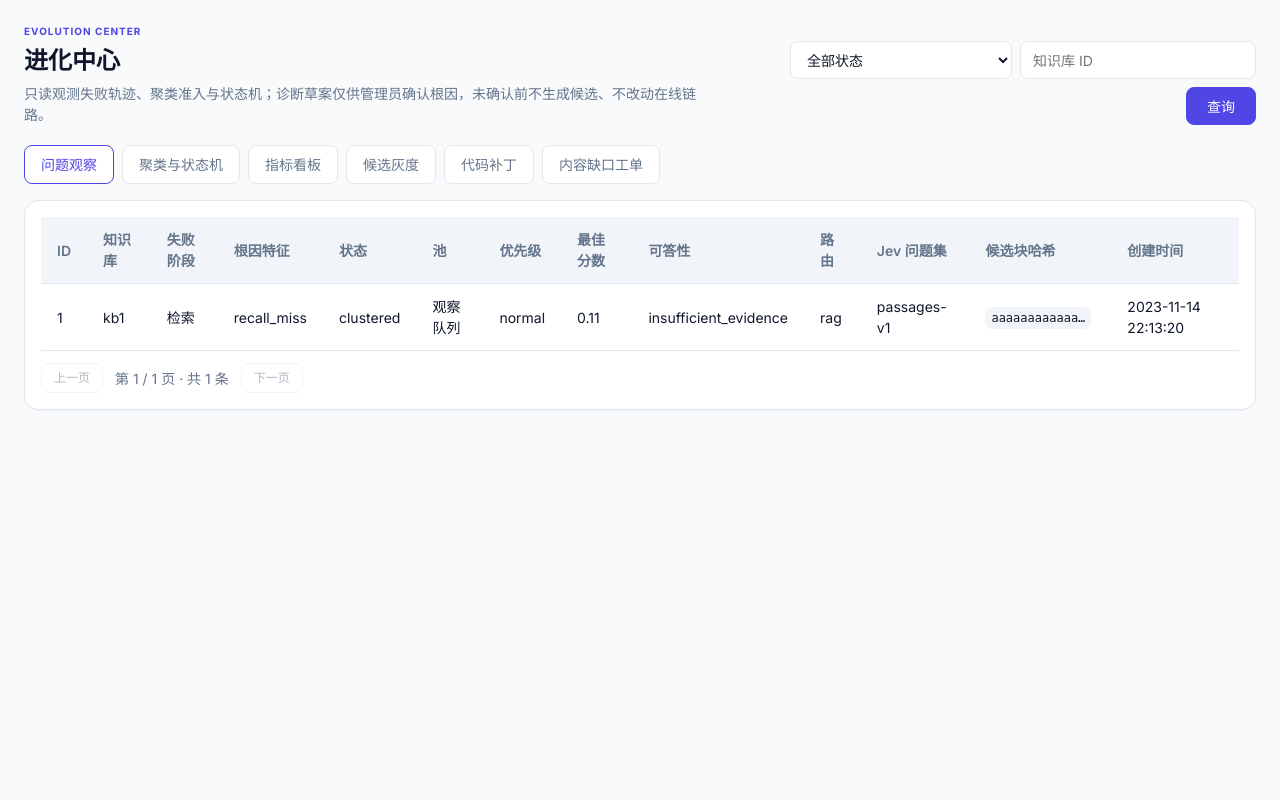
Test: EvolutionCenterView member-draft review › labels the three decisions for the administrator
This screenshot has width=1280, height=800.
Step 1. Click the button with test id "tab-clusters" → (181, 164), box [122,145,240,184]
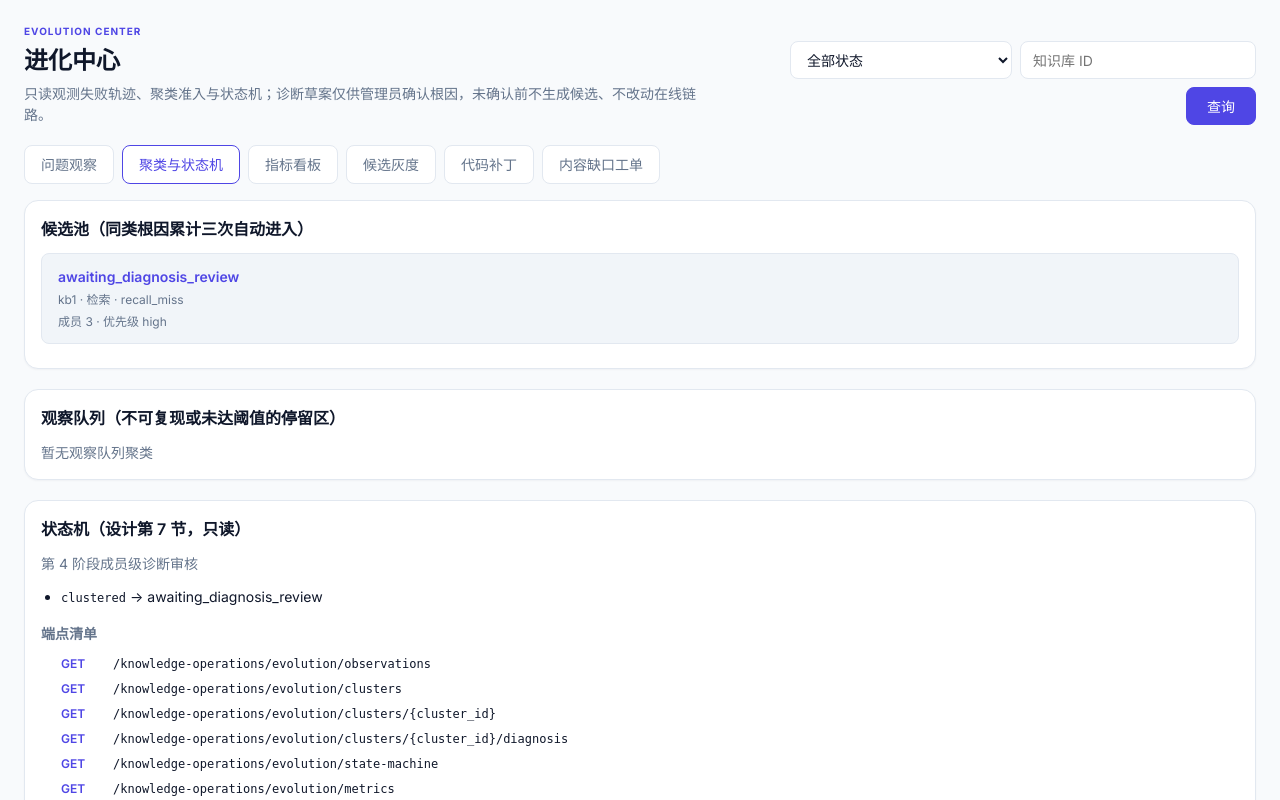
Step 2. Click the button with test id "cluster-card" → (149, 276), box [41,253,1239,344]
(page scrolled)
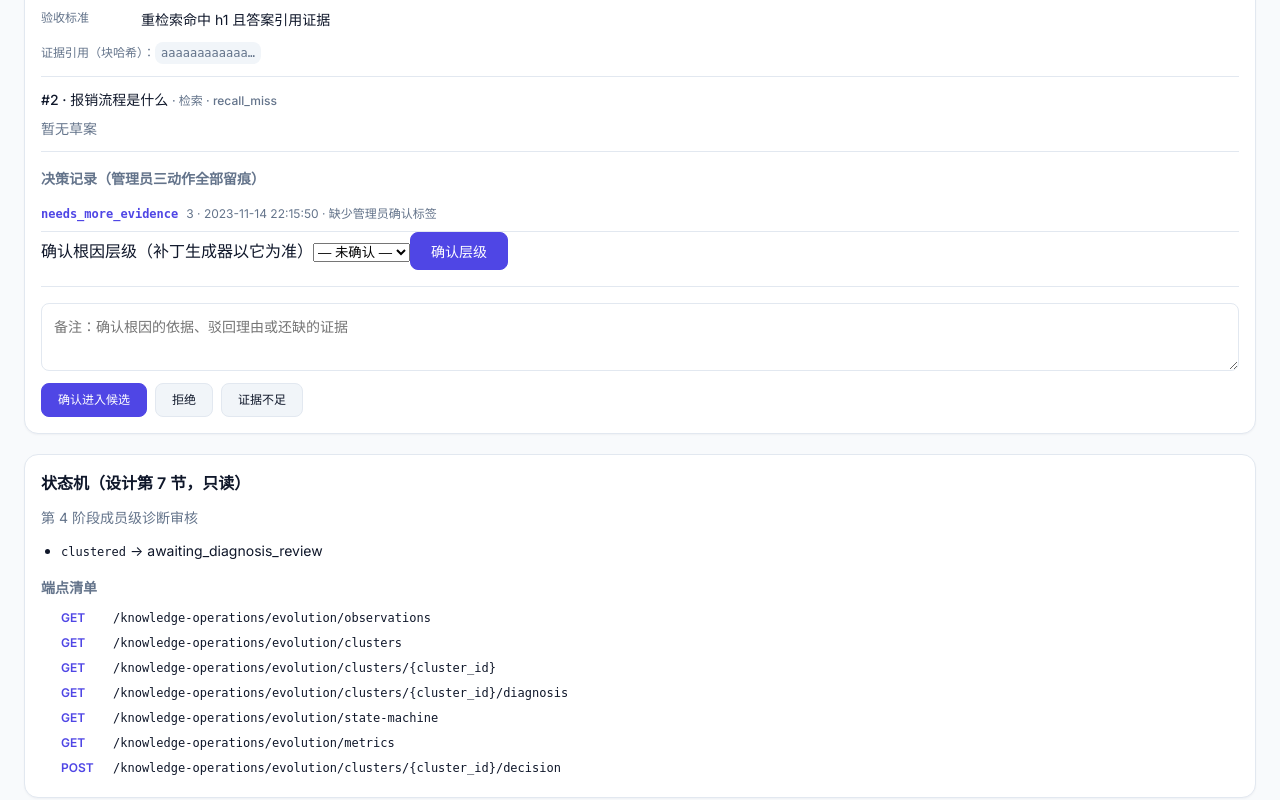
Check: the button with test id "decision-approve" reads "确认进入候选", box [41,383,147,417]
Check: the button with test id "decision-reject" reads "拒绝", box [155,383,213,417]
Check: the button with test id "decision-needs-more-evidence" reads "证据不足", box [221,383,303,417]
